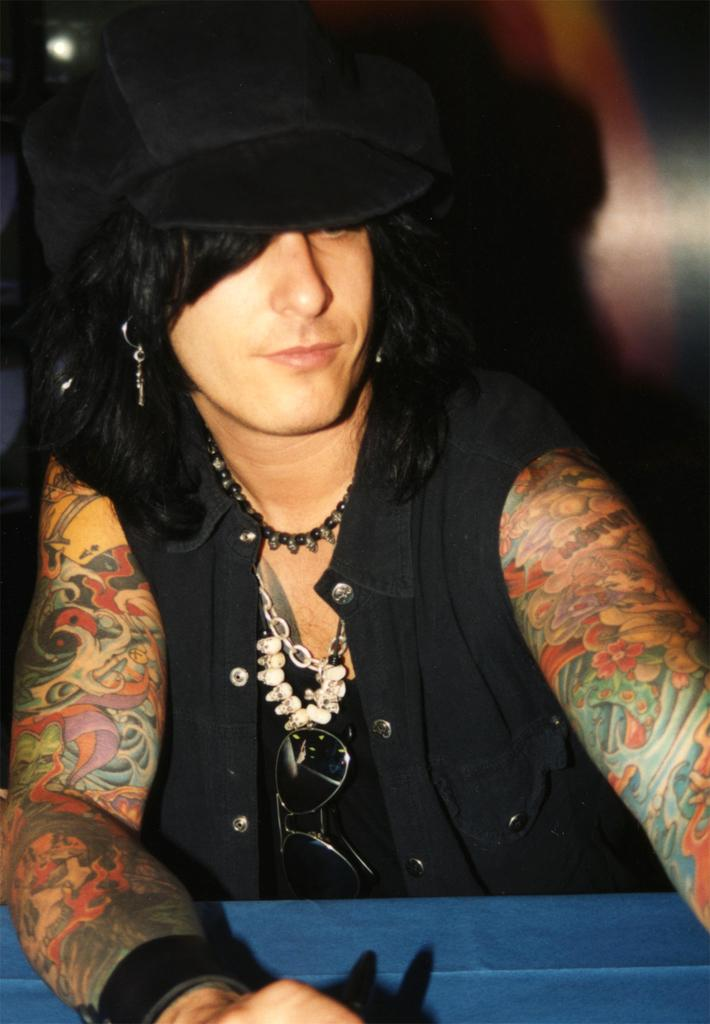Hat: (14, 2, 451, 287)
